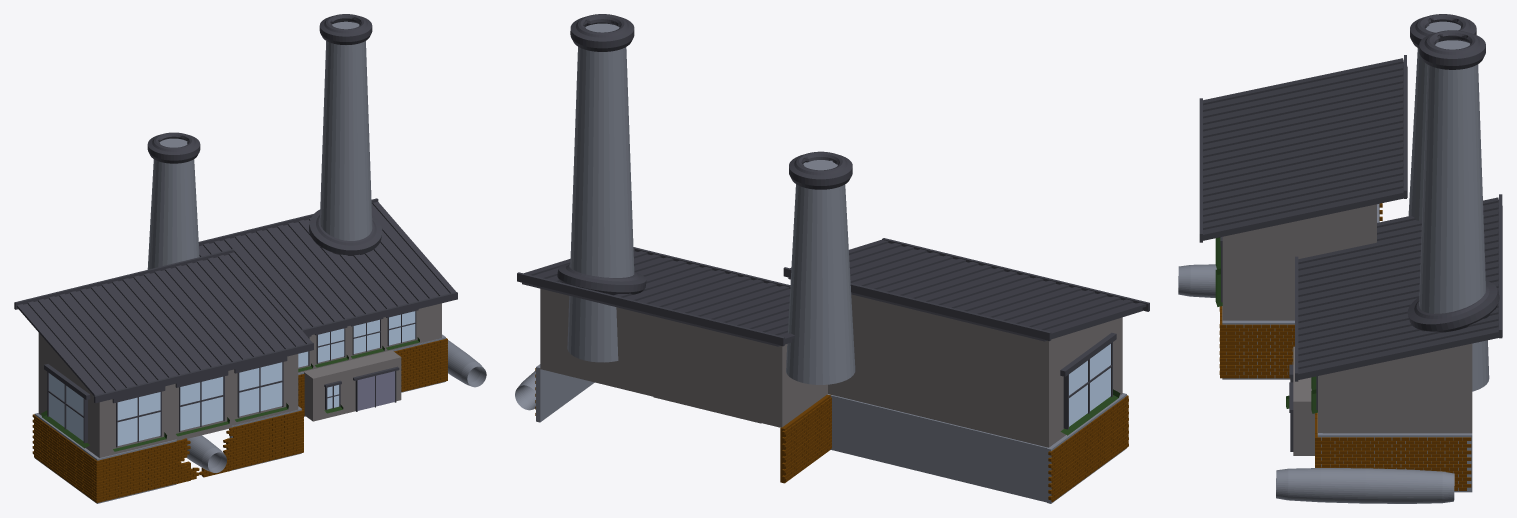
File: Factory.fbx
The picture shows the model from 3 angles, left to right: view 1: azimuth 30°, elevation 25°; view 2: azimuth 150°, elevation 25°; view 3: azimuth 270°, elevation 25°; orthographic projection. The views are drawn at different scales.
Parts seen in each view (by area): view 1: Cylinder.053; view 2: Cylinder.053; view 3: Cylinder.053.
Part boxes in pixels (x1=…): Cylinder.053: x1=14, y1=14, x2=486, y2=503; Cylinder.053: x1=515, y1=14, x2=1149, y2=503; Cylinder.053: x1=1178, y1=14, x2=1502, y2=503.
Size of the model in its own units: 38721 by 29103 by 20196.
